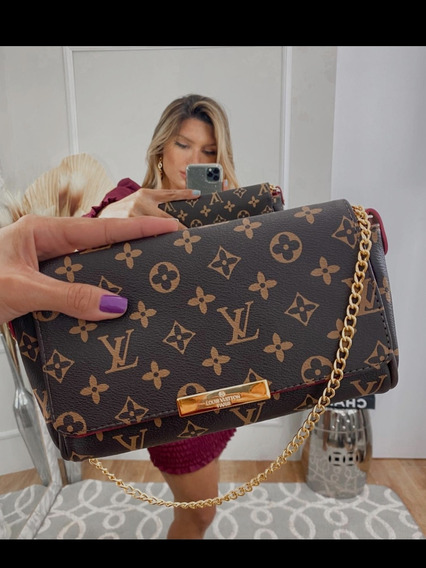cartera: (16, 191, 399, 513)
